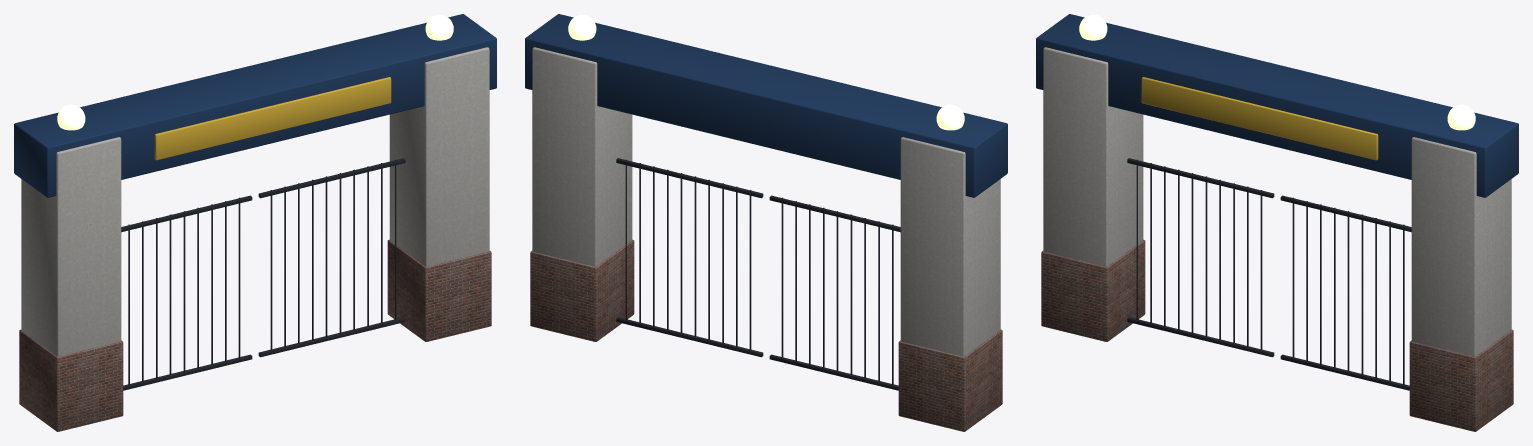
File: campus-gate-7b8cb68a355e.glb
3 views of the same model, side by side, from view 1: azimuth 30°, elevation 25°; view 2: azimuth 150°, elevation 25°; view 3: azimuth 330°, elevation 25° (orthographic).
Visible parts, largest first — view 1: Mesh_Campus_Stone, Arch_Beam, Mesh_Campus_Brick, Bot_Rail_Gate_L, Brass_Crest_Plaque, Mesh_Festoon_Bulb; view 2: Mesh_Campus_Stone, Arch_Beam, Mesh_Campus_Brick, Bot_Rail_Gate_L, Mesh_Festoon_Bulb; view 3: Mesh_Campus_Stone, Arch_Beam, Mesh_Campus_Brick, Bot_Rail_Gate_L, Brass_Crest_Plaque, Mesh_Festoon_Bulb.
Boxes of the visible parts, <box> form: Mesh_Campus_Stone: <box>21,47,489,356</box>; Arch_Beam: <box>14,14,496,197</box>; Mesh_Campus_Brick: <box>19,239,491,431</box>; Bot_Rail_Gate_L: <box>121,158,405,390</box>; Brass_Crest_Plaque: <box>154,77,391,160</box>; Mesh_Festoon_Bulb: <box>57,14,453,130</box>; Mesh_Campus_Stone: <box>532,47,1000,356</box>; Arch_Beam: <box>525,14,1007,197</box>; Mesh_Campus_Brick: <box>530,239,1002,431</box>; Bot_Rail_Gate_L: <box>616,158,900,390</box>; Mesh_Festoon_Bulb: <box>568,14,964,130</box>; Mesh_Campus_Stone: <box>1043,47,1511,356</box>; Arch_Beam: <box>1036,14,1518,197</box>; Mesh_Campus_Brick: <box>1041,239,1513,431</box>; Bot_Rail_Gate_L: <box>1127,158,1411,390</box>; Brass_Crest_Plaque: <box>1141,77,1378,160</box>; Mesh_Festoon_Bulb: <box>1079,14,1475,130</box>.
Bounding box in the file's own units: 8.8 × 5.69 × 1.3.
Materials: 6 (2 with a texture image).
